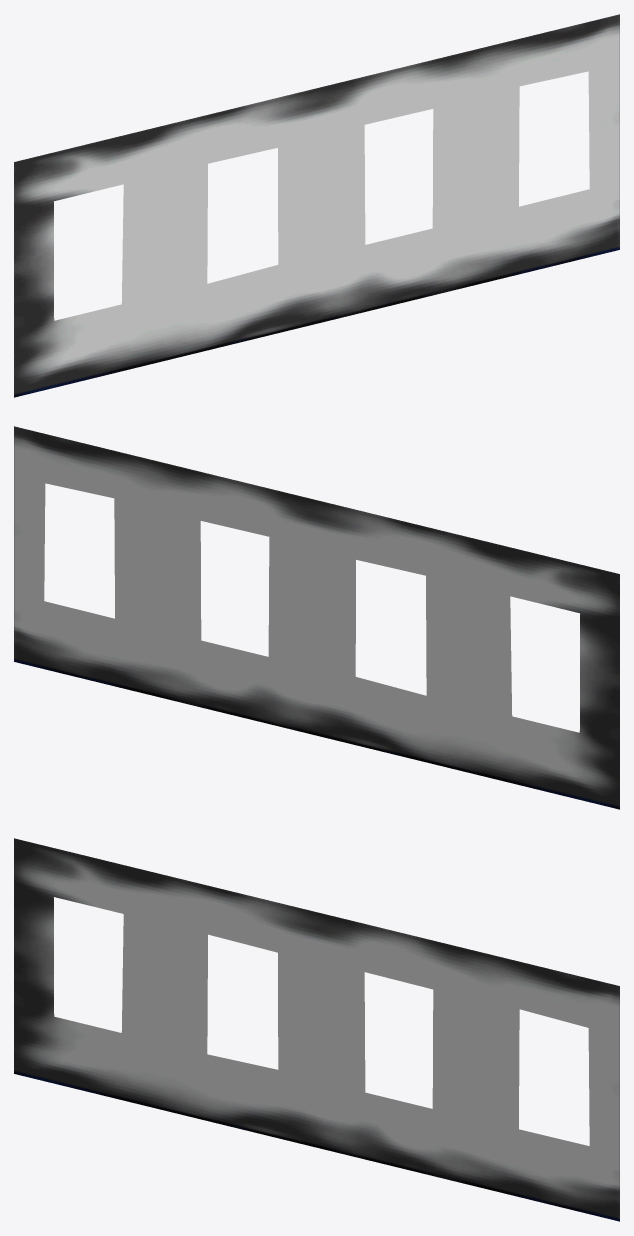
File: W_AI1_ffff [Grau]_2432.glb
3 views of the same model, one above another, from view 1: azimuth 30°, elevation 25°; view 2: azimuth 150°, elevation 25°; view 3: azimuth 330°, elevation 25° (orthographic).
Visible parts, largest first — view 1: polySurfaceShape786; view 2: polySurfaceShape786; view 3: polySurfaceShape786.
Boxes of the visible parts, x1,y1,x2,y2 form: polySurfaceShape786: [14, 14, 619, 397]; polySurfaceShape786: [14, 426, 619, 809]; polySurfaceShape786: [14, 838, 619, 1221].
Bounding box in the file's own units: 0.9385 × 0.3486 × 1.31e-07.
Materials: 1 (1 with a texture image).
